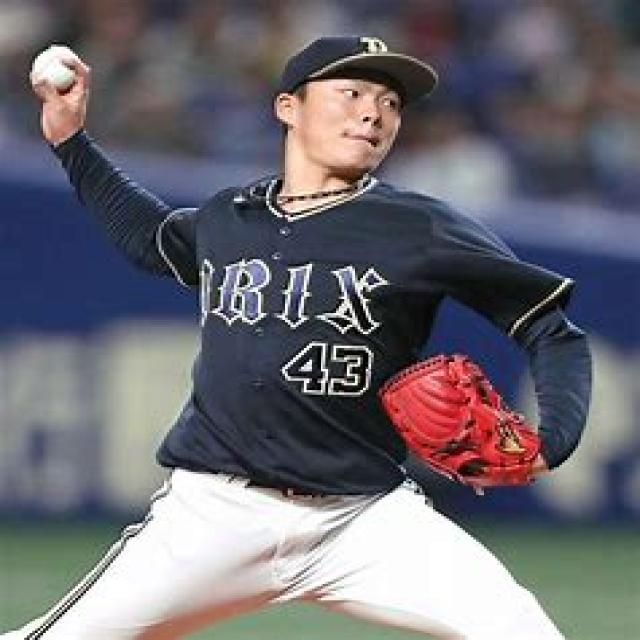glove: (371, 347, 548, 499)
